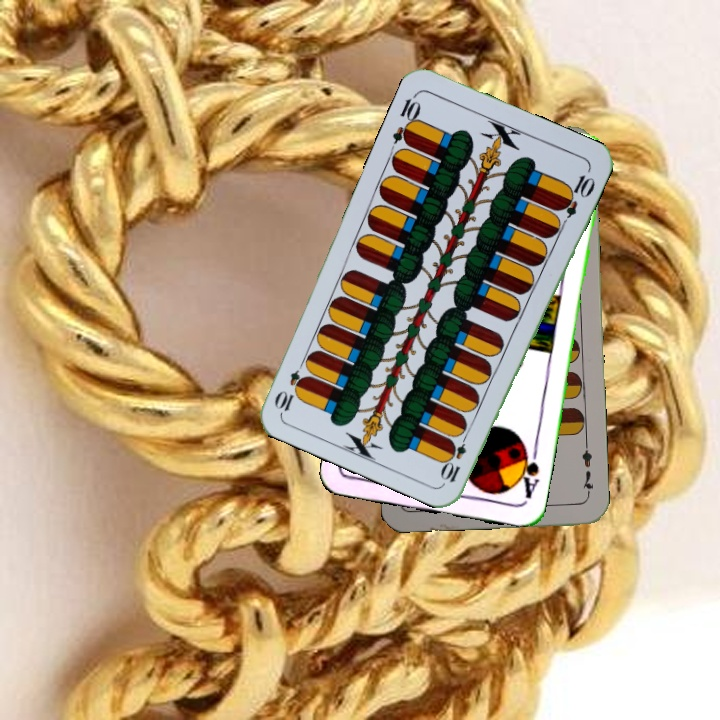E10: (388, 89, 424, 148), (439, 427, 471, 485)
E7: (578, 440, 596, 499)
SA: (513, 442, 542, 501)
